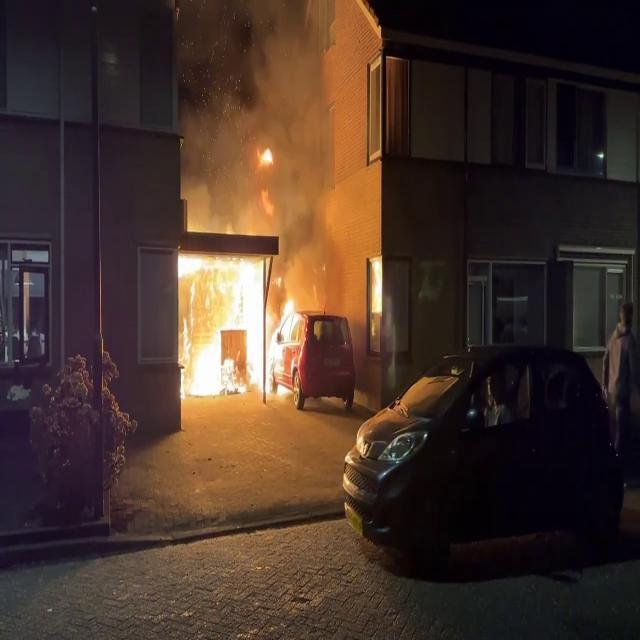Fire: (178, 240, 304, 404)
Smoke: (179, 1, 371, 272)
